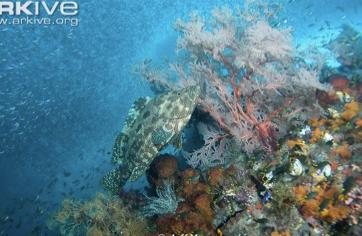Serranidae -Groupers-: (99, 82, 201, 194)
